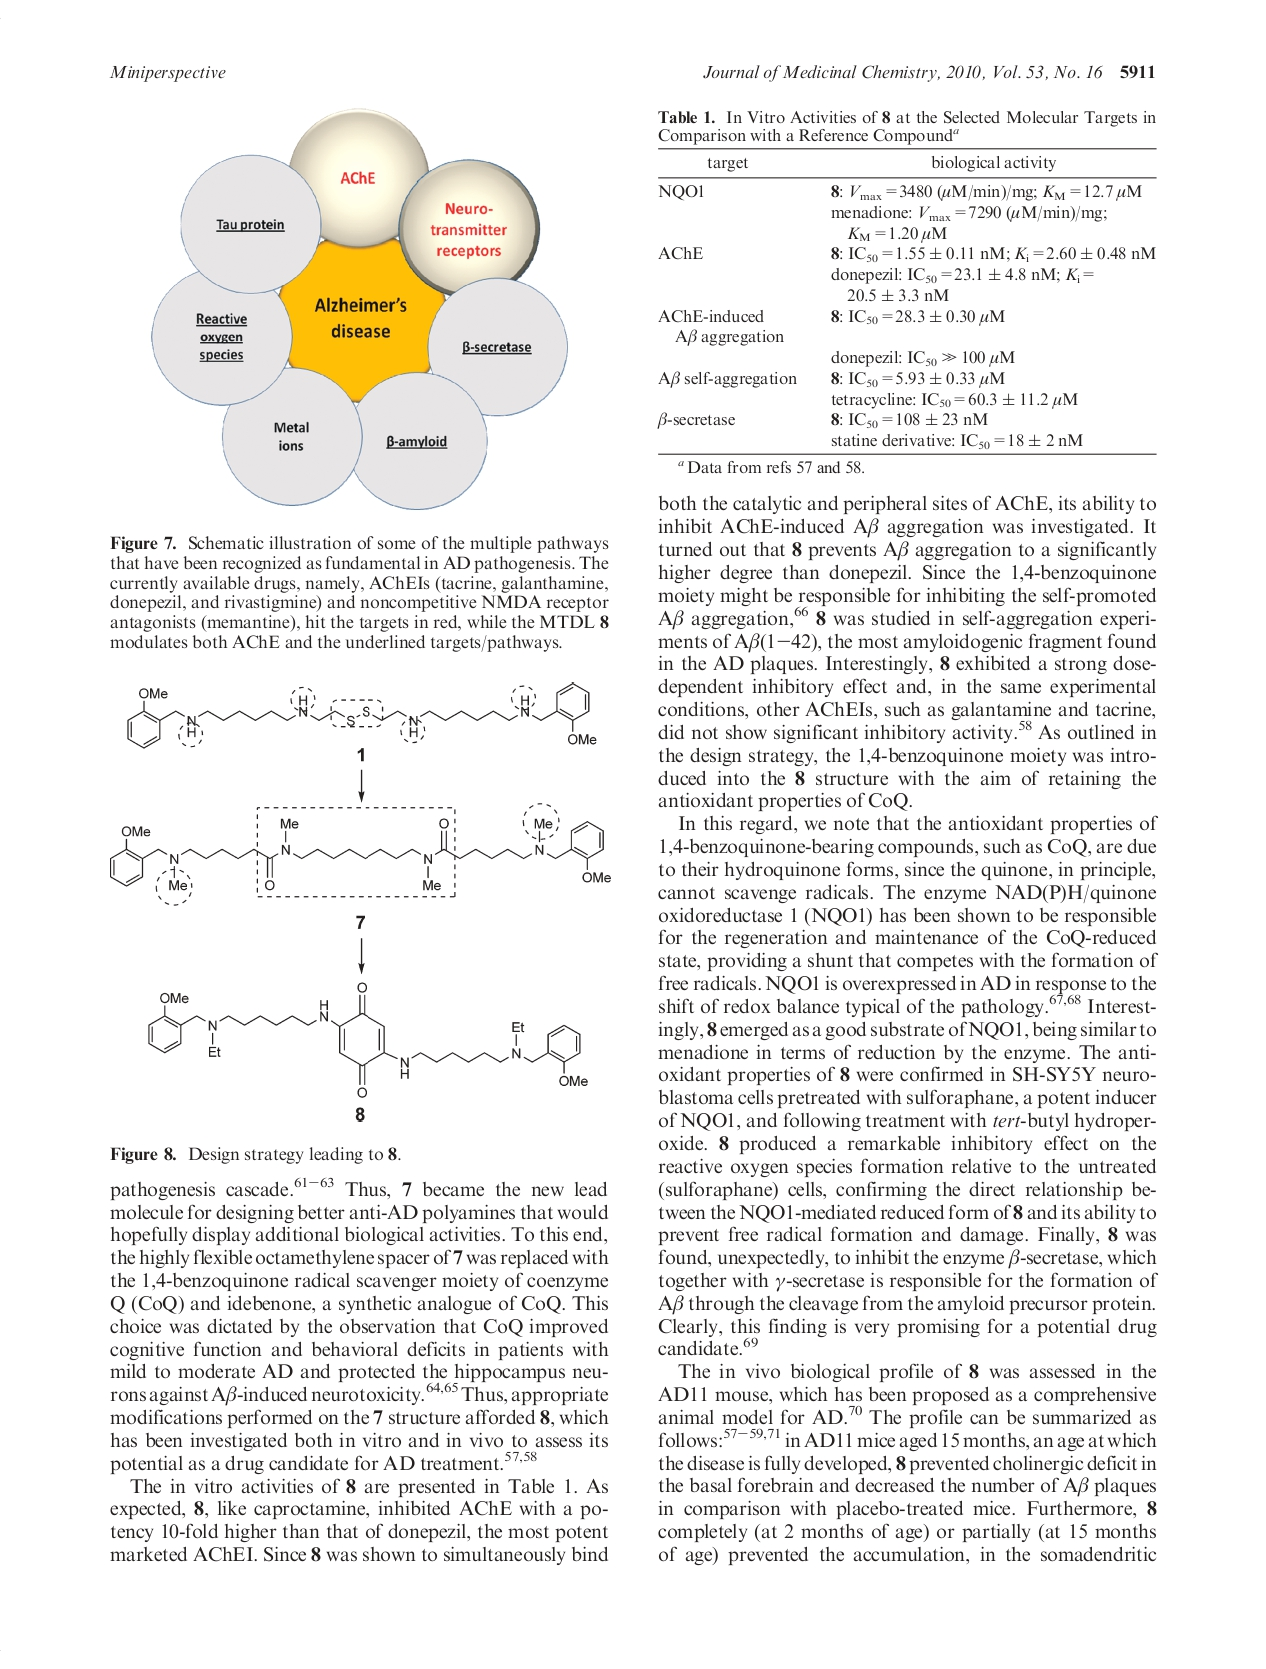exist_molecular: (145, 981, 590, 1091), (108, 815, 613, 890), (124, 680, 601, 751)
